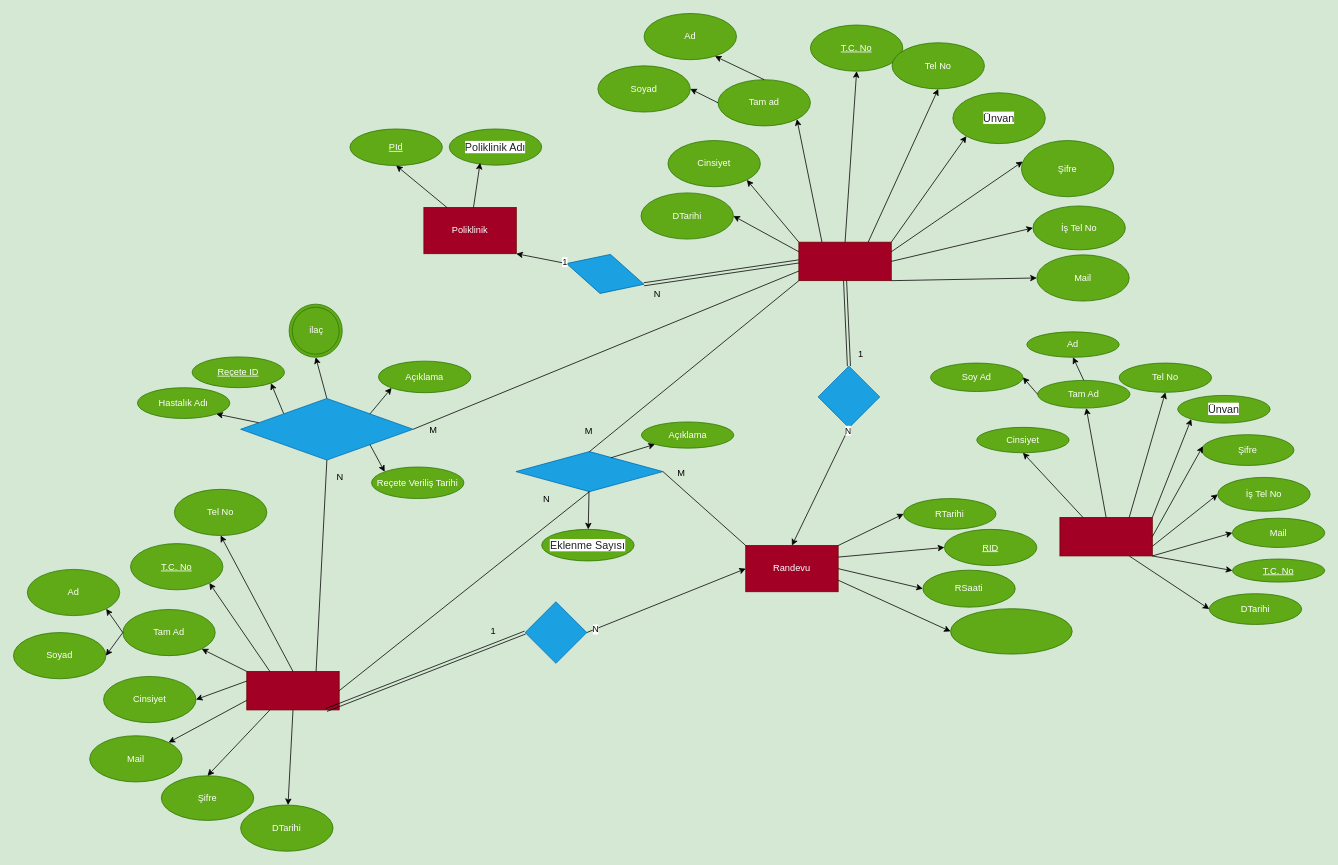
Image size: 1338x865. Some labels were removed from this diagram. Each missing label, with the box of its shape:
Alır: (524, 601, 587, 663)
Bulunur: (561, 243, 649, 304)
Doktor: (798, 241, 891, 281)
Hasta: (246, 671, 339, 710)
Kara Liste olur: (515, 451, 663, 492)
Reçete: (240, 398, 413, 460)
ROlusturma Tarihi: (950, 608, 1072, 654)
Yönetici: (1059, 517, 1152, 556)
Yönetir: (817, 365, 880, 428)
